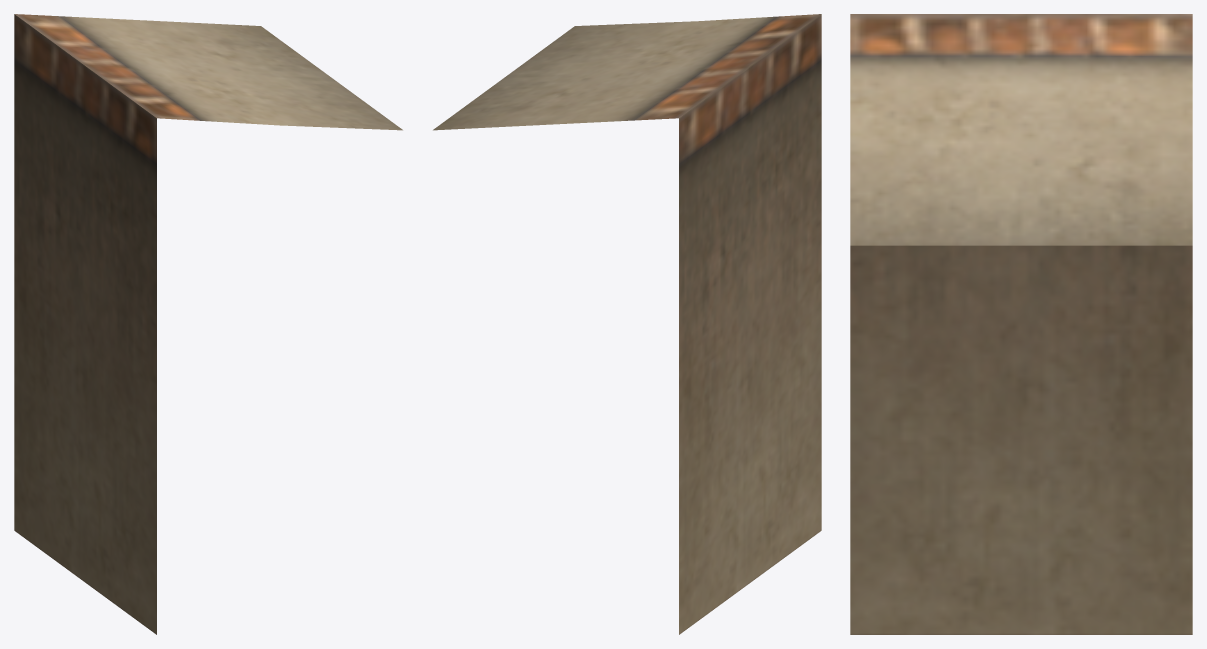
Rendered from sink_oneside.glb.
The picture shows the model from 3 angles, left to right: view 1: azimuth 30°, elevation 25°; view 2: azimuth 150°, elevation 25°; view 3: azimuth 270°, elevation 25°; orthographic projection. The views are drawn at different scales.
Parts seen in each view (by area): view 1: SmallSunkenFloor_90; view 2: SmallSunkenFloor_90; view 3: SmallSunkenFloor_90.
Boxes of the visible parts, box(x1,y1,x2,y2) form: SmallSunkenFloor_90: box(14, 14, 402, 634); SmallSunkenFloor_90: box(433, 14, 821, 634); SmallSunkenFloor_90: box(850, 14, 1192, 634).
Bounding box in the file's own units: 2.5 × 5 × 2.5.
2 materials, 2 textured.
